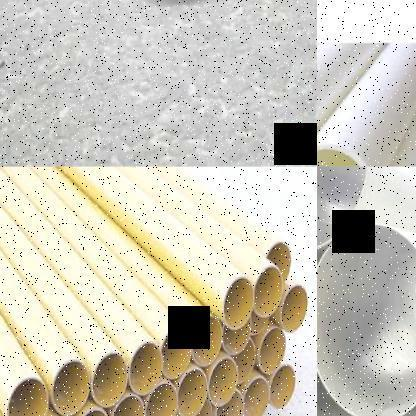pipe: (317, 220, 416, 416), (52, 360, 90, 415), (92, 352, 128, 406), (129, 342, 163, 396), (223, 276, 254, 330), (252, 265, 284, 317), (192, 316, 223, 368), (161, 327, 192, 379), (7, 377, 48, 416), (176, 368, 208, 416), (209, 356, 238, 406), (282, 284, 309, 334), (258, 327, 286, 374), (317, 144, 375, 166), (269, 364, 296, 410), (223, 314, 252, 356), (266, 240, 291, 284), (146, 382, 177, 416), (243, 376, 269, 416), (235, 338, 255, 382), (214, 389, 244, 416), (111, 395, 144, 416), (184, 400, 212, 416)
